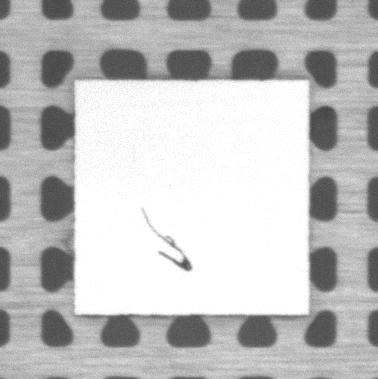DIE_INK: (141, 209, 192, 274)
